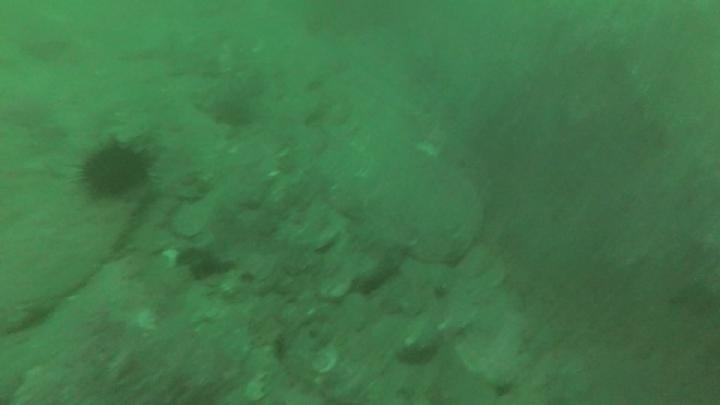echinus: (75, 135, 155, 202)
